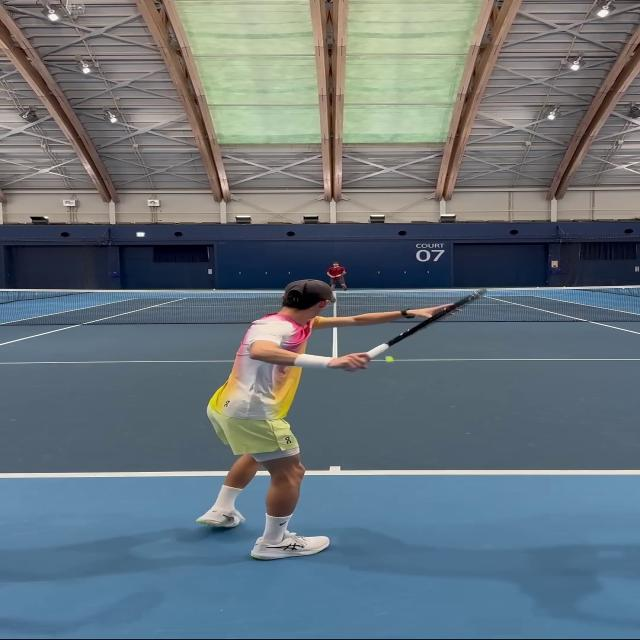tennis_ball: (386, 357, 393, 361)
